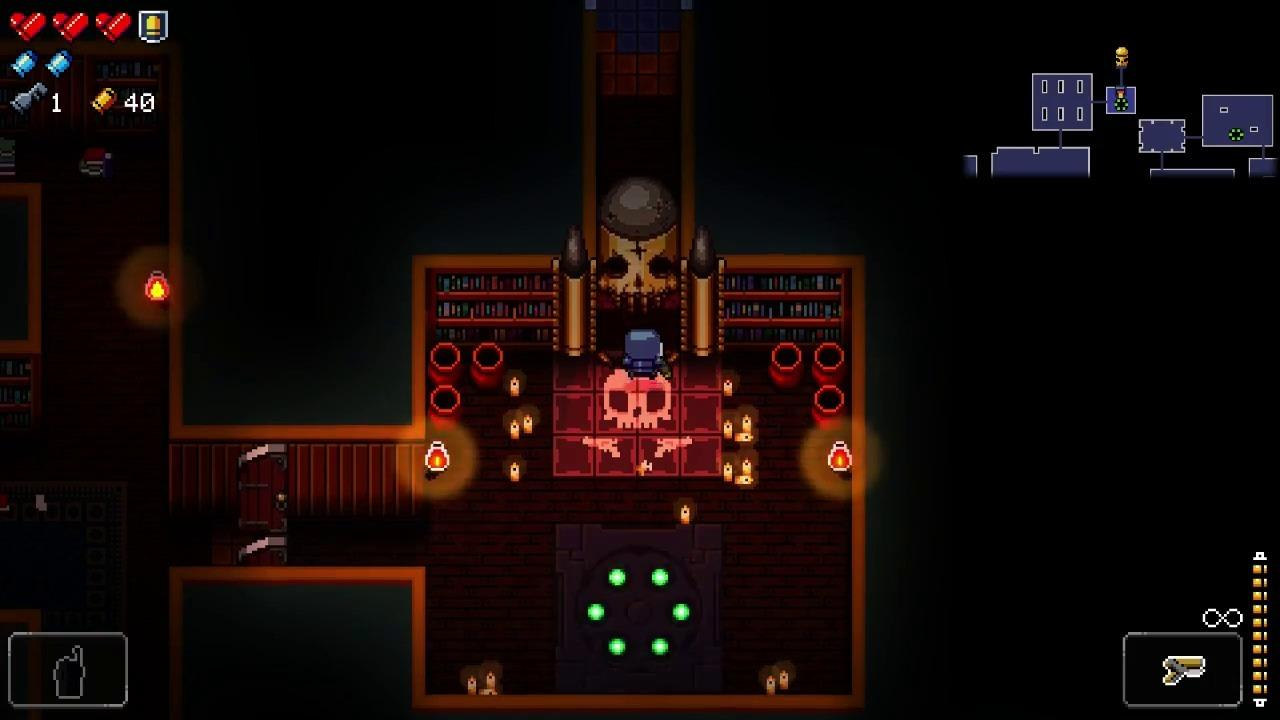boss_entry: (554, 351, 722, 476)
player: (626, 330, 662, 381)
teleporter: (555, 522, 725, 695)
unlocked_door: (239, 444, 287, 567)
